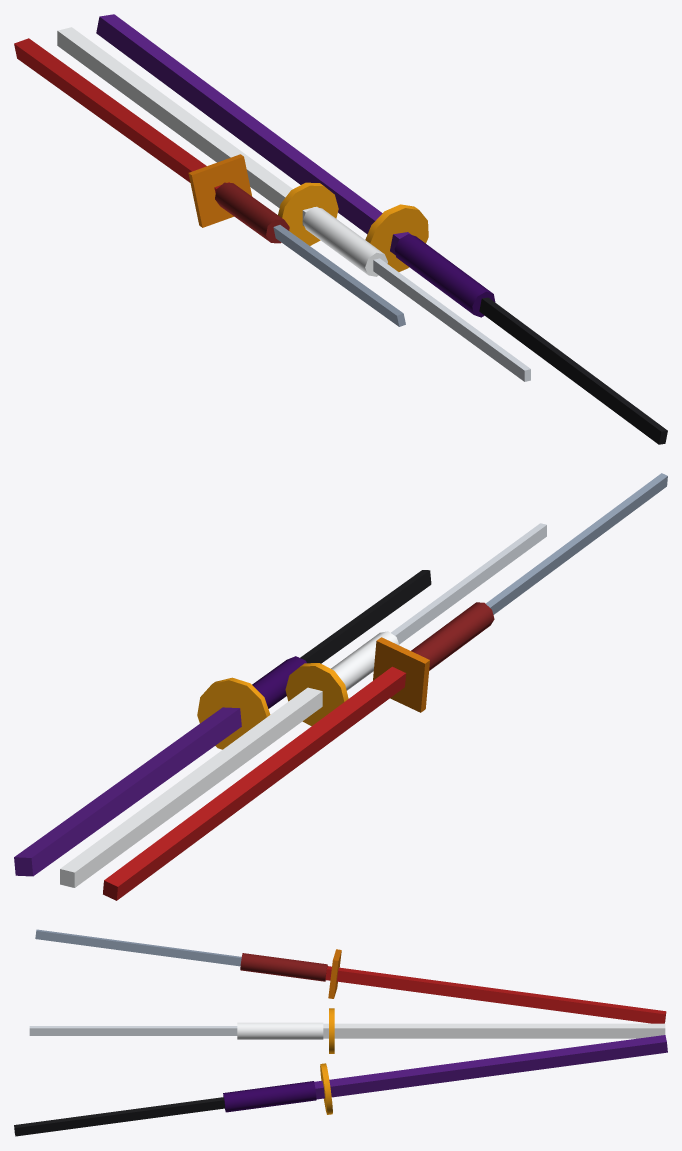
The model's file is zoro-swords.glb.
3 renders of one model, top to bottom at view 1: azimuth 30°, elevation 25°; view 2: azimuth 150°, elevation 25°; view 3: azimuth 270°, elevation 25°, orthographic. The views are drawn at different scales.
Parts seen in each view (by area): view 1: Zoro_Three_Katanas; view 2: Zoro_Three_Katanas; view 3: Zoro_Three_Katanas.
Boxes of the visible parts, <box> form: Zoro_Three_Katanas: <box>14,14,667,444</box>; Zoro_Three_Katanas: <box>14,473,667,900</box>; Zoro_Three_Katanas: <box>14,929,667,1136</box>.
Bounding box in the file's own units: 0.7053 × 0.4743 × 2.28.
